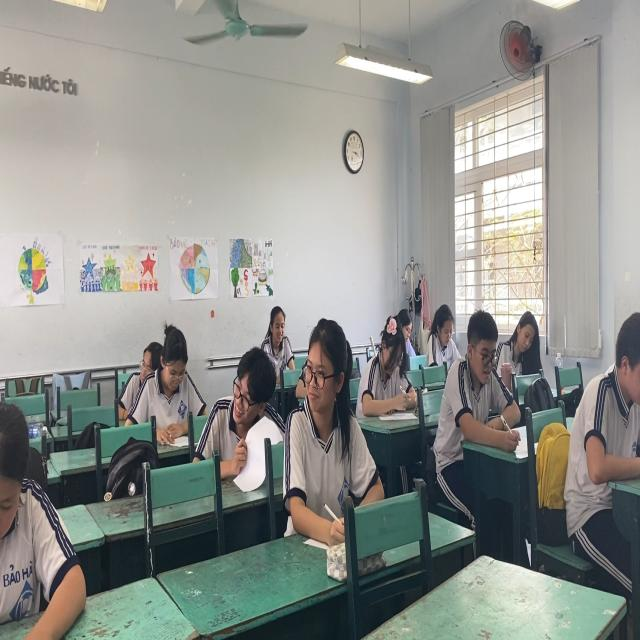cheating: (292, 319, 366, 502), (204, 347, 278, 475)
not_cheating: (447, 306, 516, 454), (138, 309, 202, 444), (364, 315, 412, 419), (500, 298, 543, 374), (259, 302, 298, 374), (421, 302, 461, 368)
